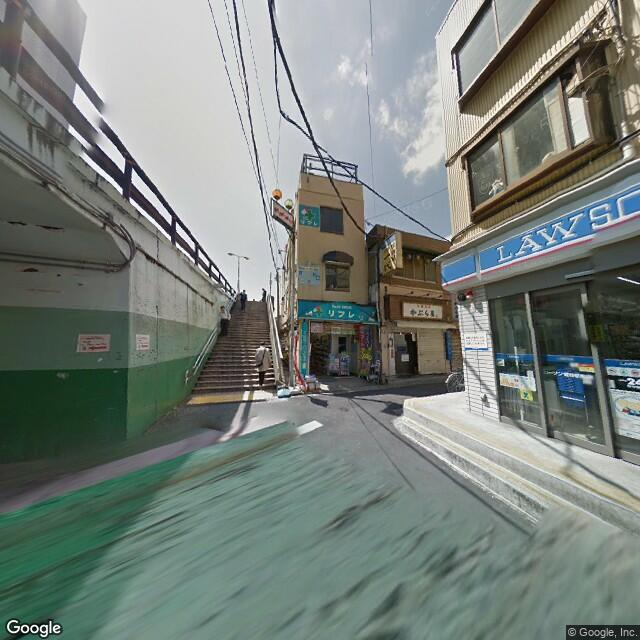lawson: (440, 176, 640, 301)
